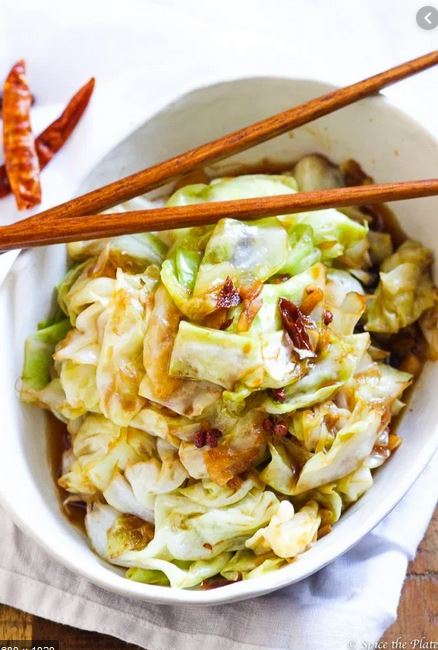chinese_cabbage: (73, 236, 419, 544), (64, 379, 242, 557), (164, 412, 334, 571), (126, 303, 305, 440), (234, 342, 385, 495), (47, 256, 184, 416), (171, 224, 339, 346), (305, 229, 433, 374)
